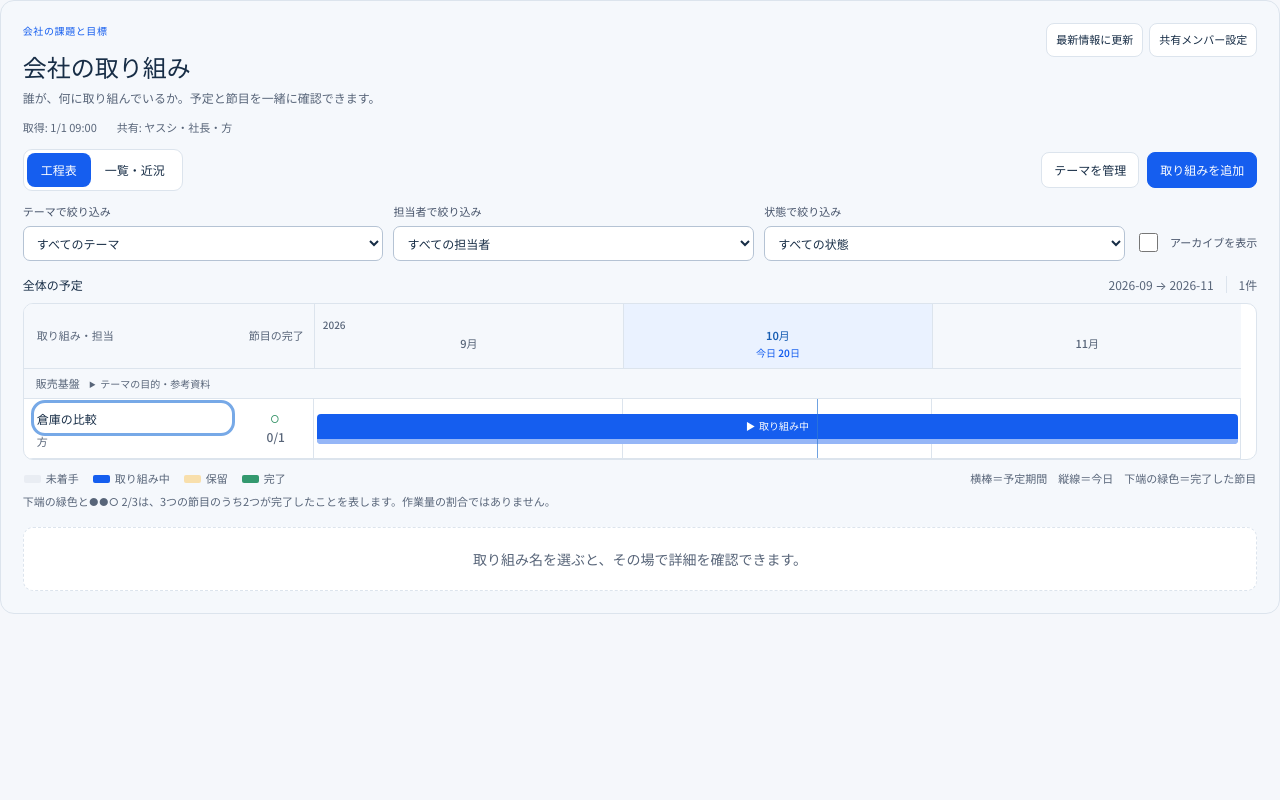
Scenario: BusinessPage › opens details in a dialog and lets a manager change assignees there
The image size is (1280, 800).
What coordinates should you click on to do the following:
click the button "倉庫の比較"
I would click on:
 (133, 418)
Its box is [37,406,229,430].
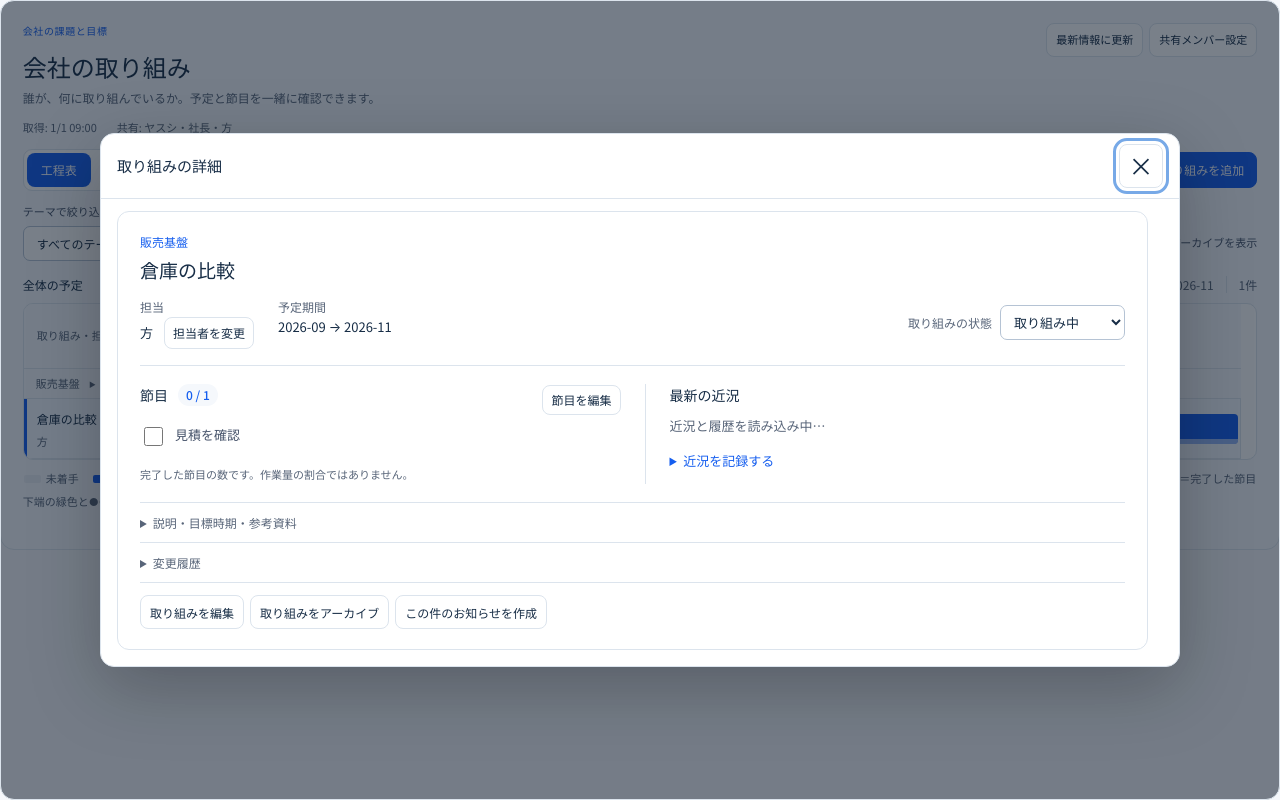
Expected: the dialog "取り組みの詳細" is shown, [100,133,1180,667]
What coordinates should you click on to do the following:
click the button "担当者を変更"
I would click on:
 (209, 333)
Its box is [164,317,254,349].
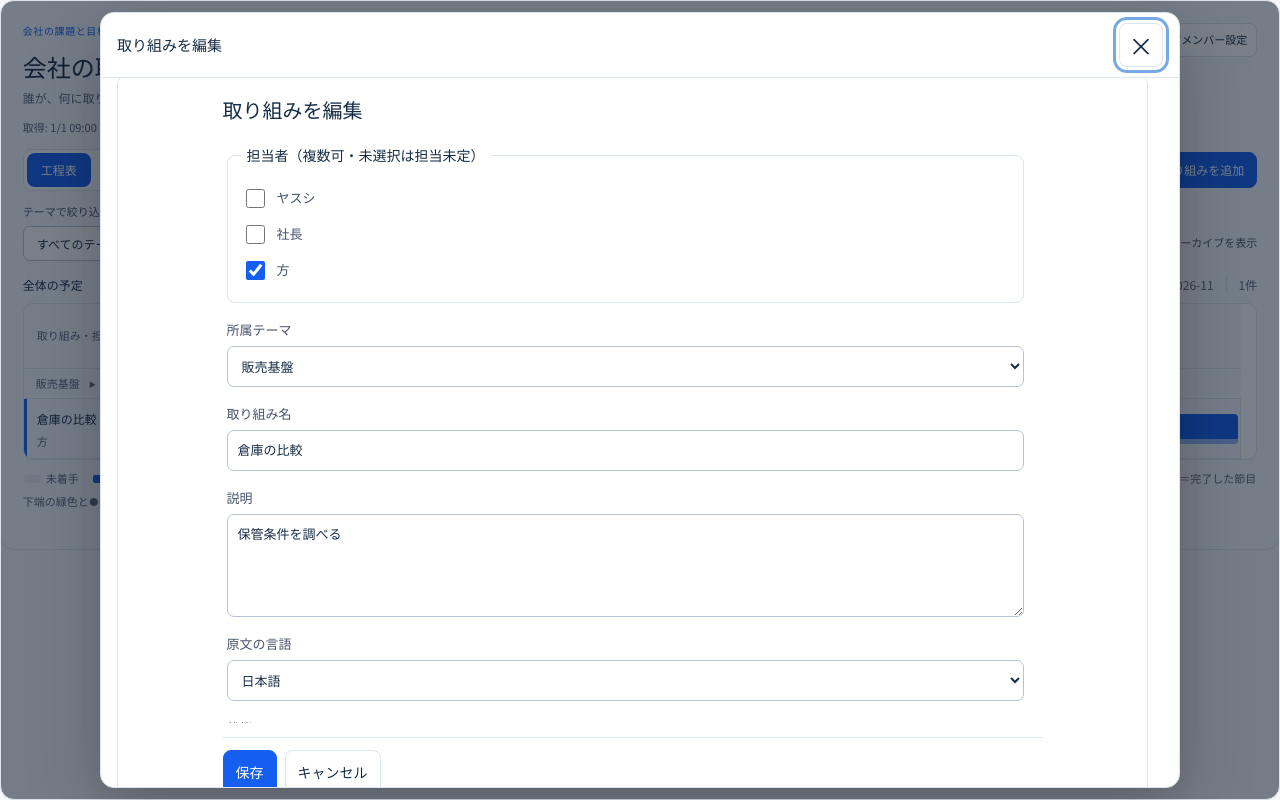
Expected: the dialog "取り組みを編集" is shown
What coordinates should you click on to do the following:
click the checkbox labelled "ヤスシ"
I would click on:
 (255, 198)
Its box is [246,189,264,208].
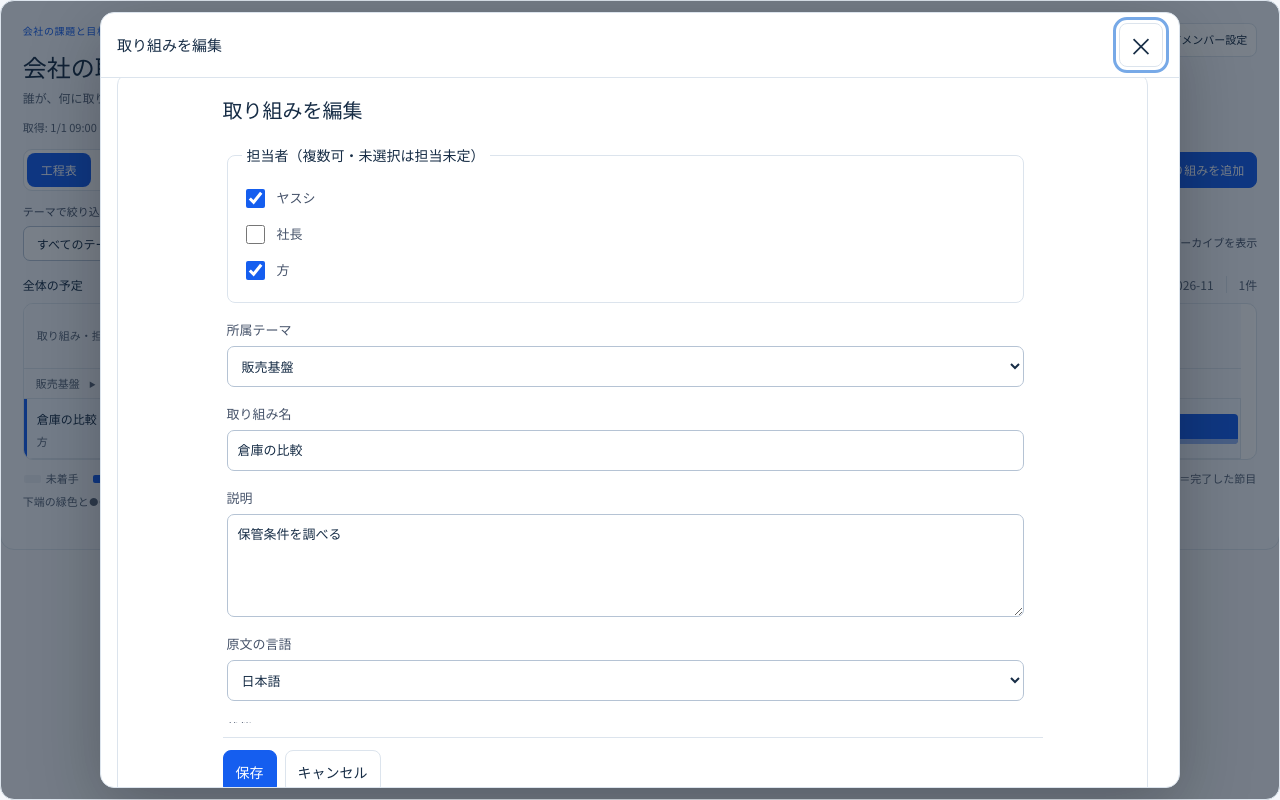
What coordinates should you click on to do the following:
click the checkbox labelled "方"
I would click on:
 (255, 270)
Its box is [246,261,264,280].
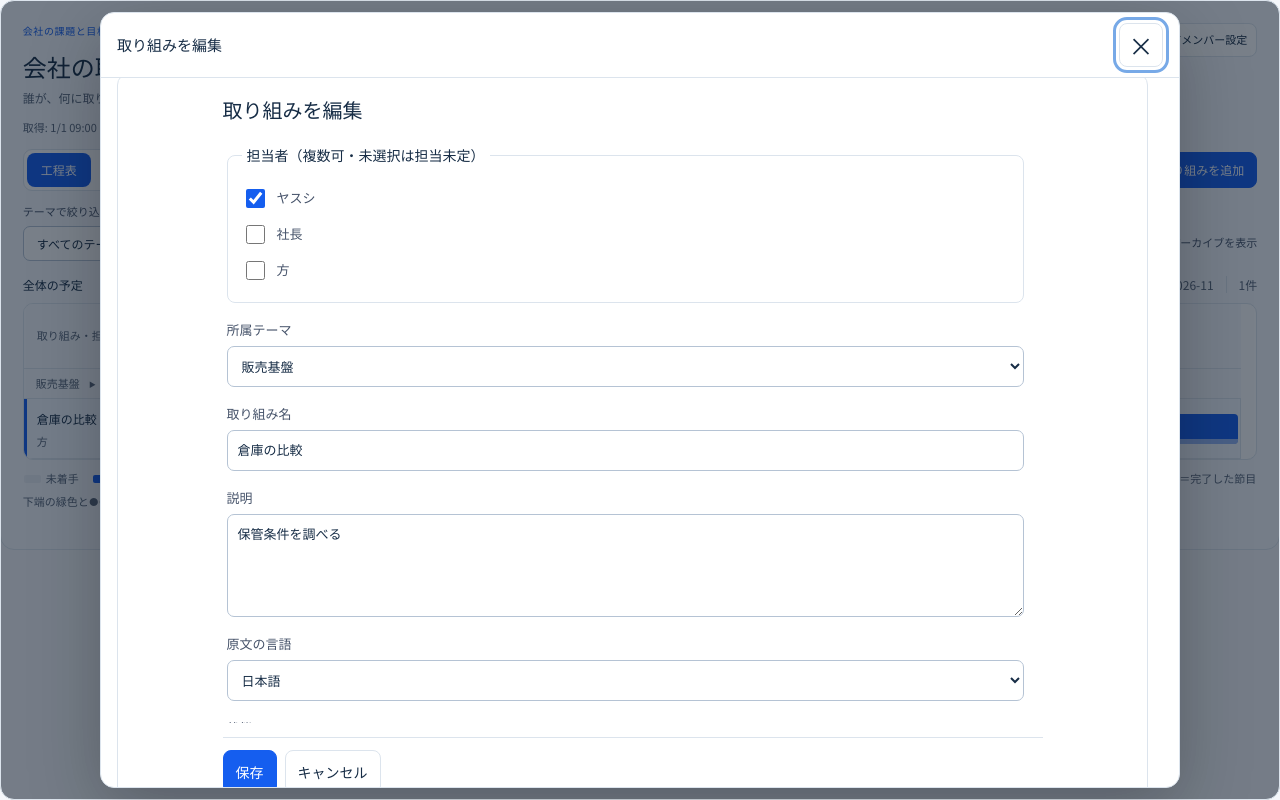
What coordinates should you click on to do the following:
click the button "保存"
I would click on:
 (250, 772)
Its box is [222,750,276,794].
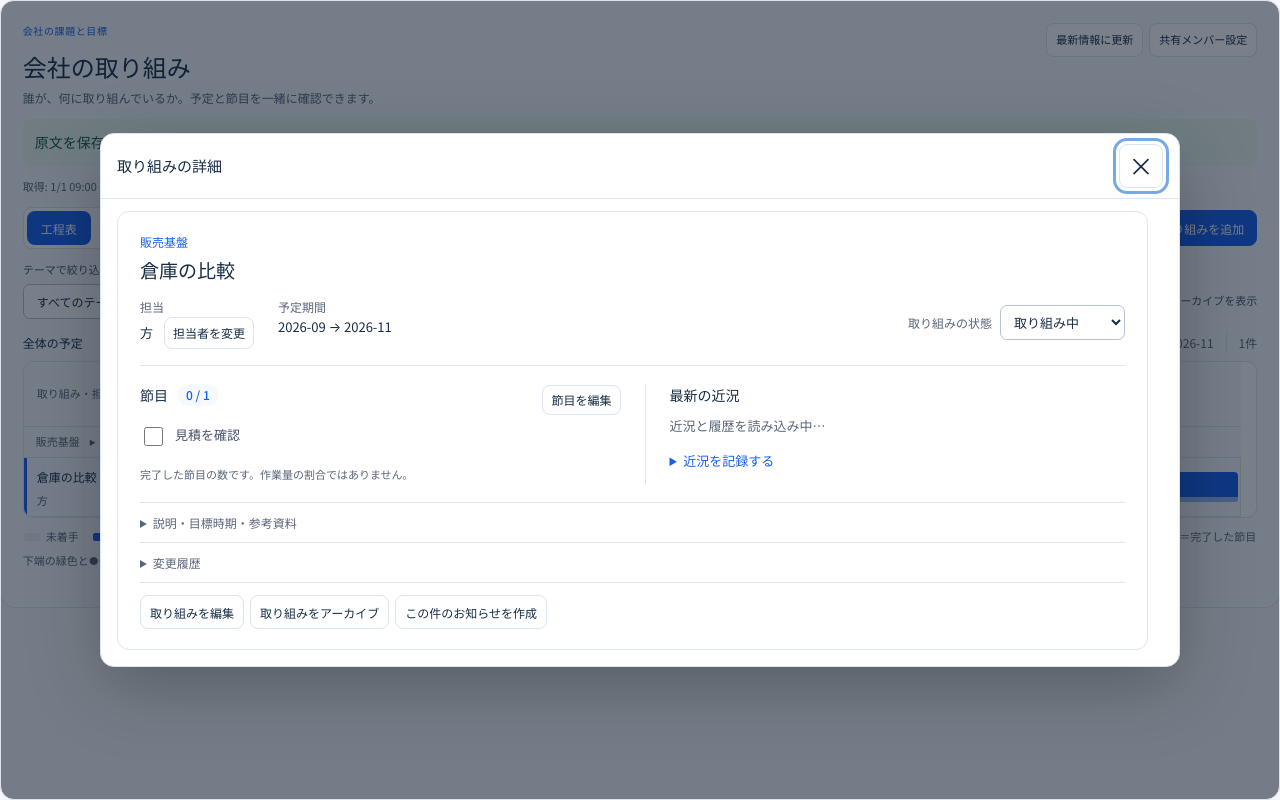
What coordinates should you click on to do the following:
click the button named "詳細を閉じる"
I would click on:
 (1141, 166)
Its box is [1119,144,1163,188].
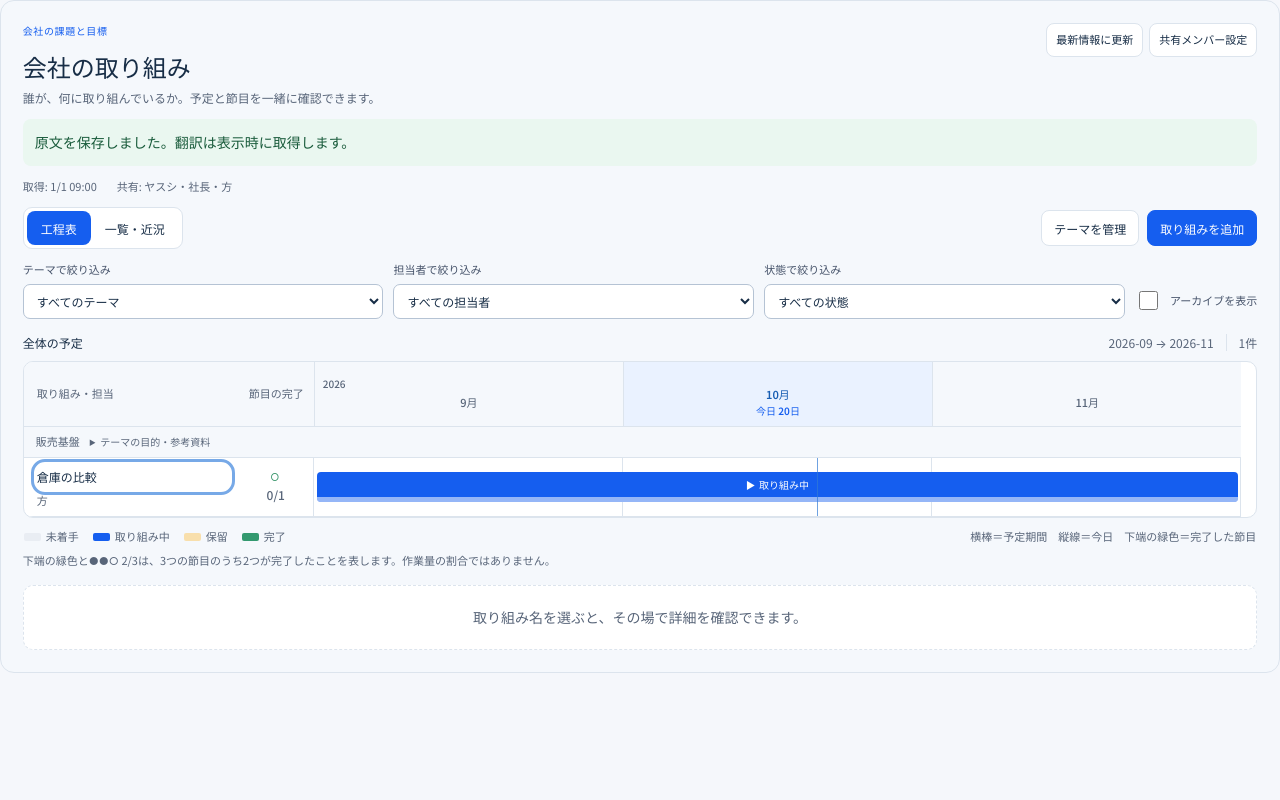
Expected: the heading "取り組みの詳細" is gone
